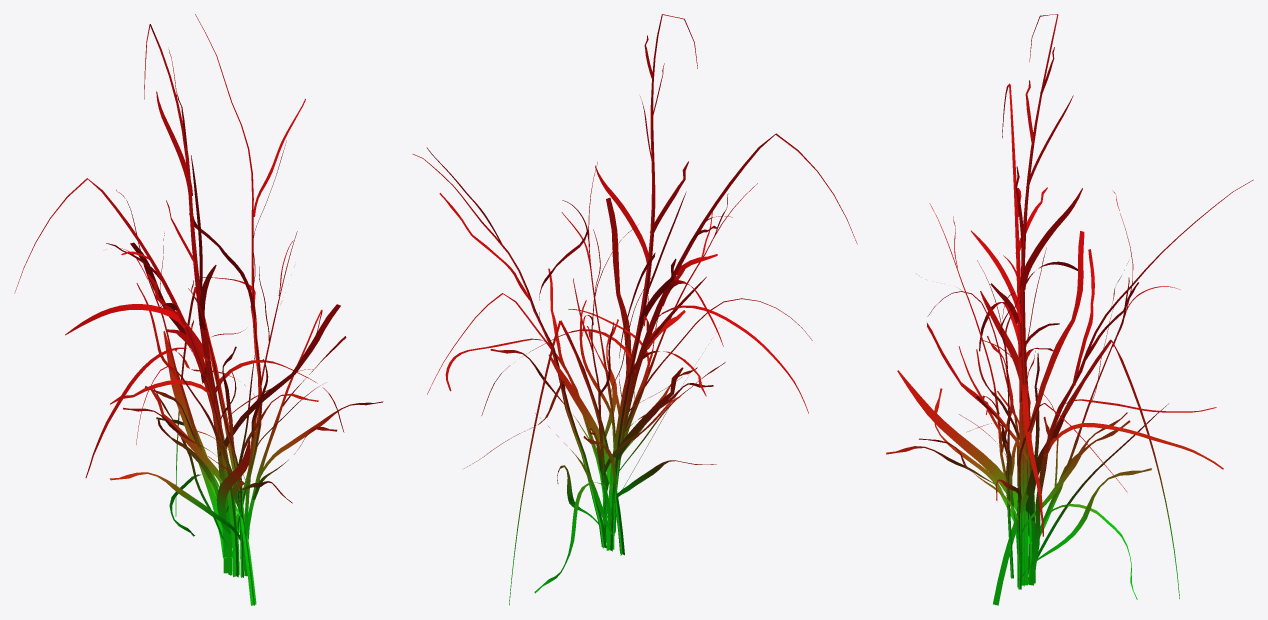
The model's file is Swamp Grass_LOD1_Var4_tefocd1r.fbx.
3 renders of one model, left to right at view 1: azimuth 30°, elevation 25°; view 2: azimuth 150°, elevation 25°; view 3: azimuth 270°, elevation 25°, orthographic. The views are drawn at different scales.
Visible parts, largest first — view 1: merge1; view 2: merge1; view 3: merge1.
Part boxes in pixels (<box>): merge1: <box>14,14,383,605</box>; merge1: <box>412,14,857,605</box>; merge1: <box>886,14,1253,605</box>.
Size of the model in its own units: 47.11 by 70.84 by 42.34.
